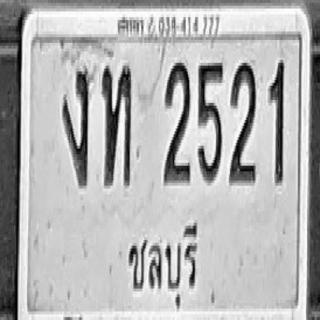A07: (62, 67, 89, 187)
A23: (102, 63, 132, 186)
N01: (269, 59, 284, 184)
N02: (229, 60, 256, 183), (164, 60, 190, 183)
N05: (197, 60, 223, 183)
P13: (123, 218, 203, 312)
